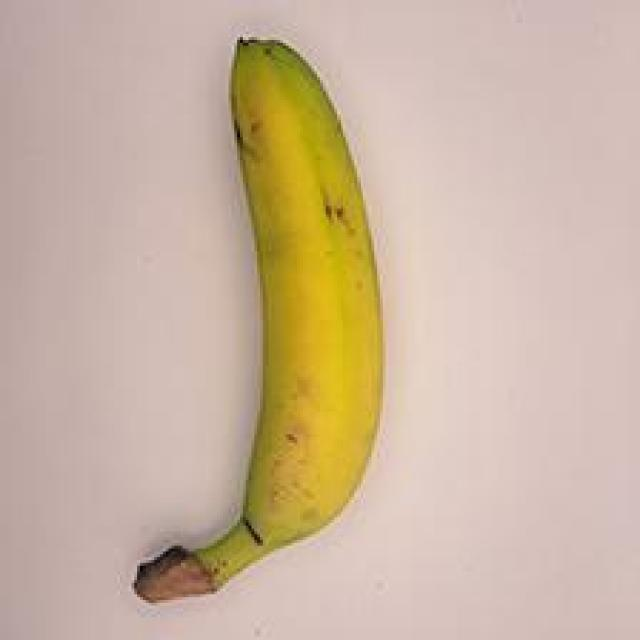unripe: (120, 19, 392, 606)
